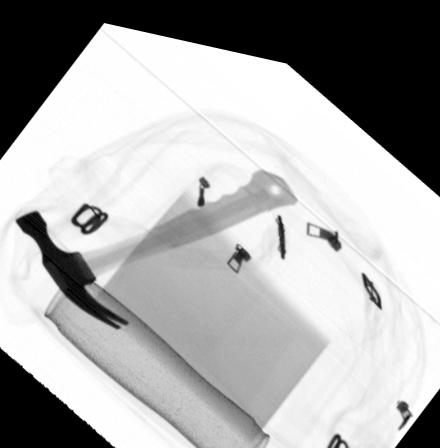Hammer: (13, 156, 299, 325)
